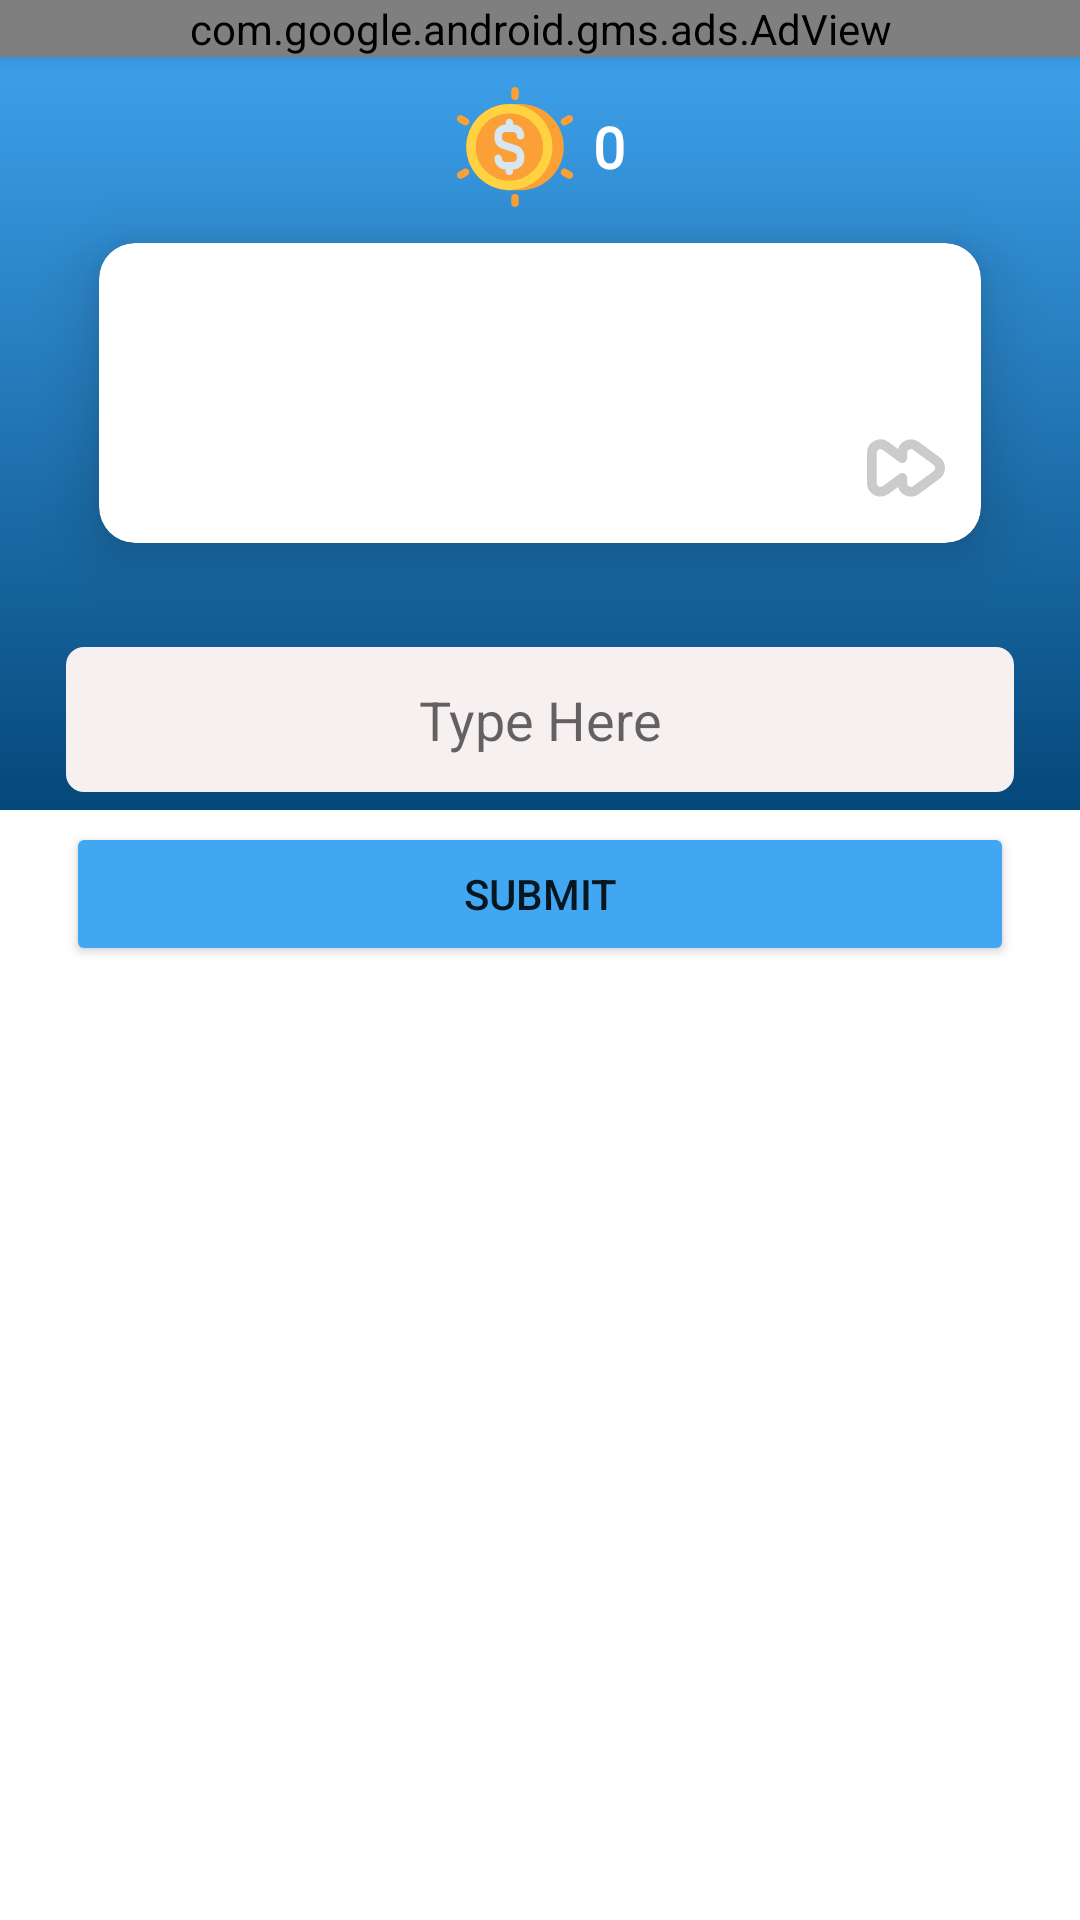

Where icons sit on this 1080px x 1920px app screen, as (x1, y1, x2, y2):
coin: (457, 87, 573, 207)
